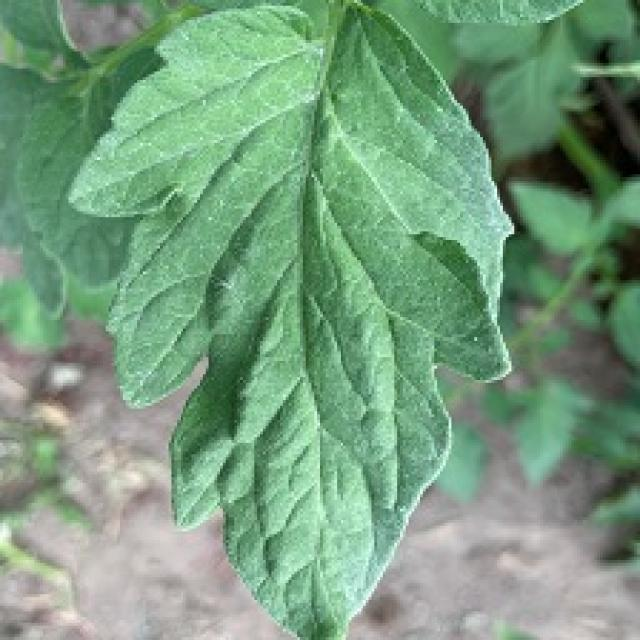Healthy: (37, 0, 597, 640)
